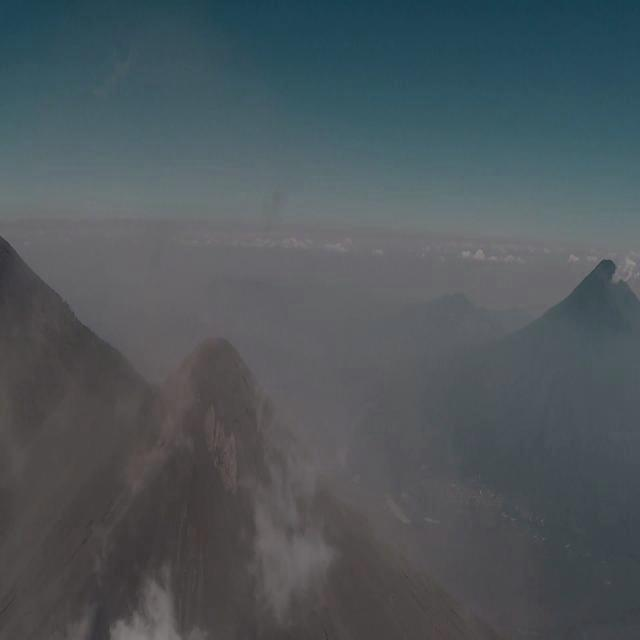Summit: (125, 332, 314, 486)
